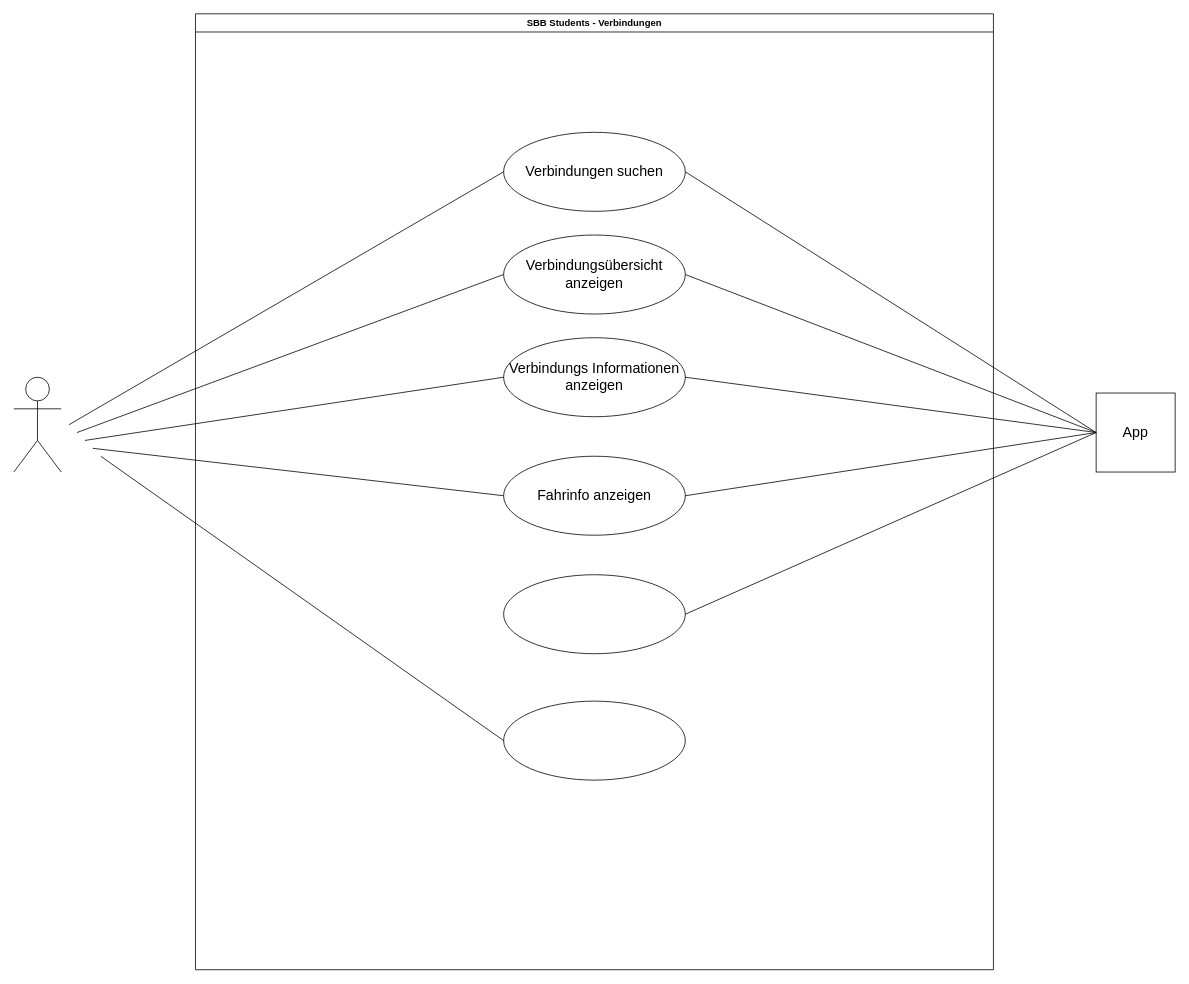
This 1189x984 diagram has some shape labels left out. Each missing label, with the centre of its shape:
App Starten: point (594, 740)
Standort Lokatlisieren: point (594, 614)
User: point (37, 424)
